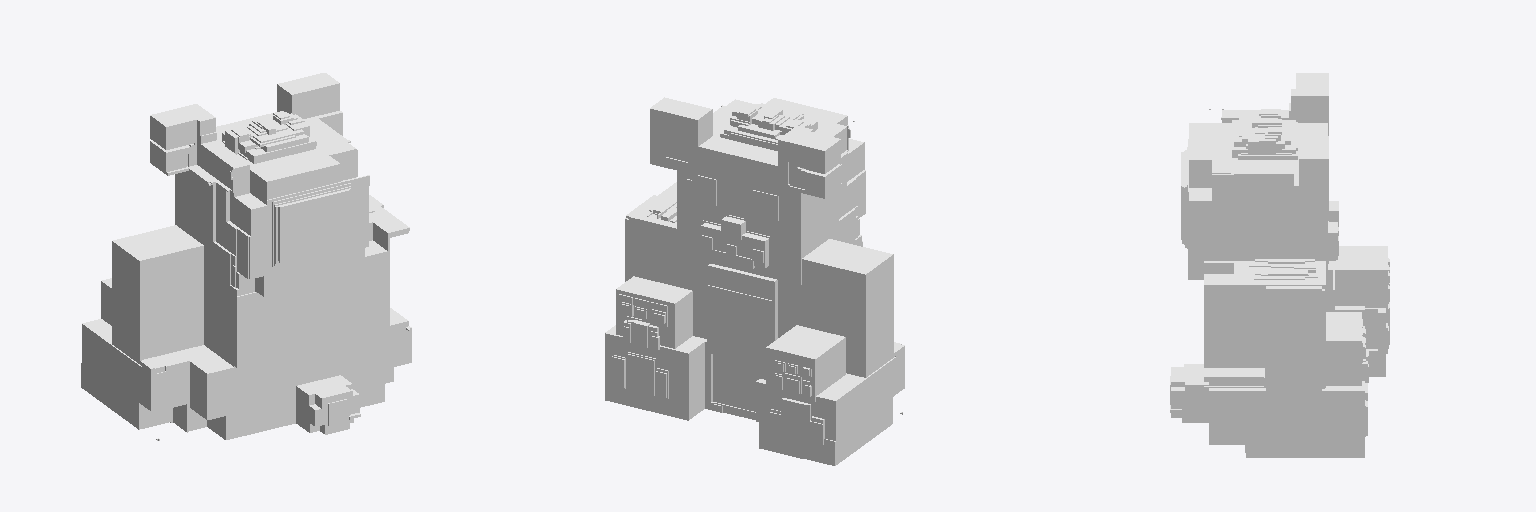
Rendered from bear2-0.obj.
The picture shows the model from 3 angles: view 1: azimuth 30°, elevation 25°; view 2: azimuth 150°, elevation 25°; view 3: azimuth 270°, elevation 25°; orthographic projection.
Visible parts, largest first — view 1: object 1; view 2: object 1; view 3: object 1.
Boxes of the visible parts, x1,y1,x2,y2 form: object 1: [81, 73, 411, 440]; object 1: [605, 97, 904, 465]; object 1: [1170, 73, 1389, 457].
Bounding box in the file's own units: 19.6 × 22.1 × 15.5.